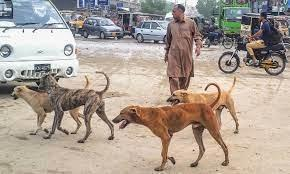normal_dogs: (115, 82, 227, 168), (37, 64, 117, 140), (9, 81, 90, 139), (168, 81, 248, 137)
